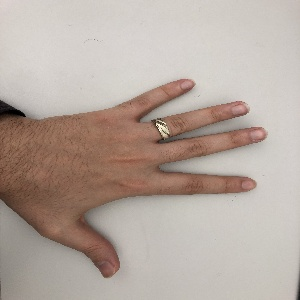hand: (35, 79, 269, 277)
